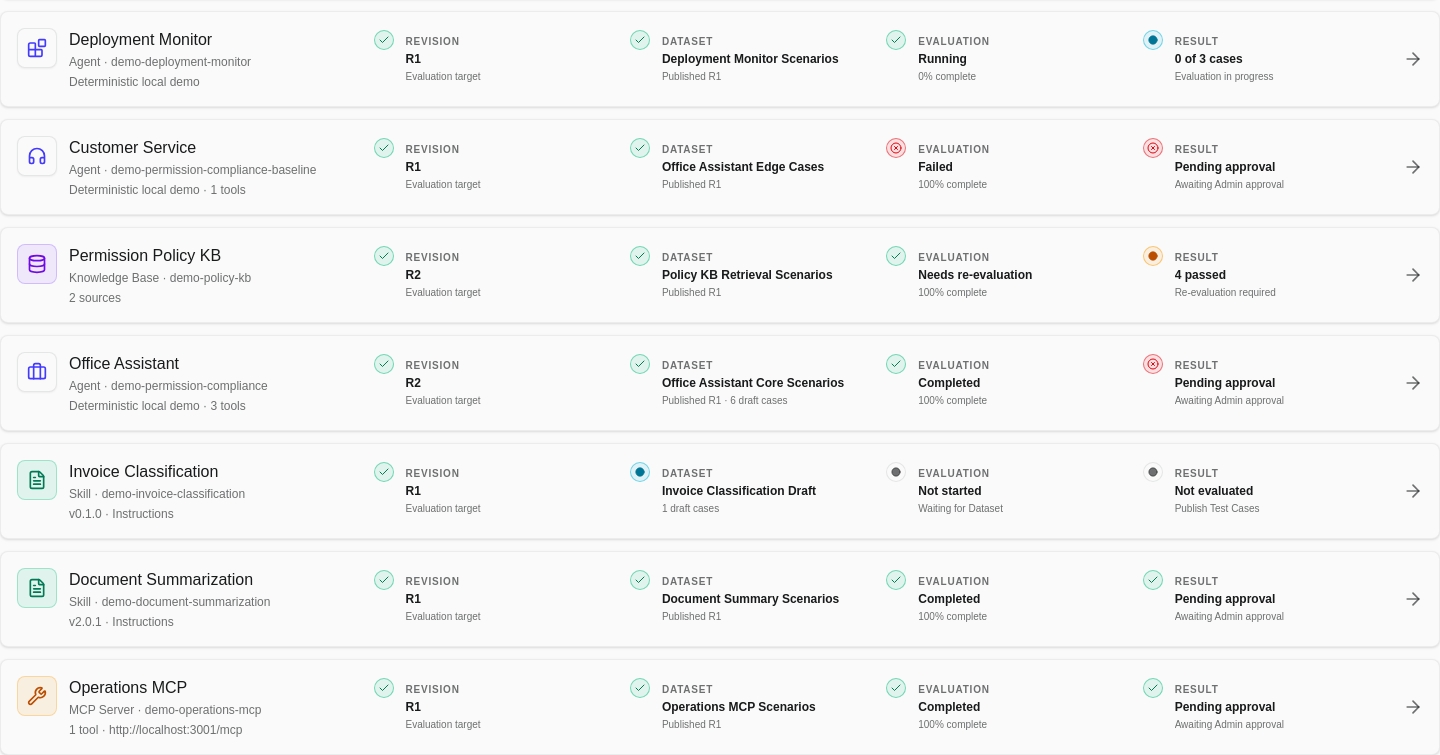
Test: Catalog drawer progressive disclosure › keeps revision metadata behind Skill details
(page scrolled)
Click the button named "Document Summarization demo-document-summarization" at (720,599), box [0,551,1439,647]
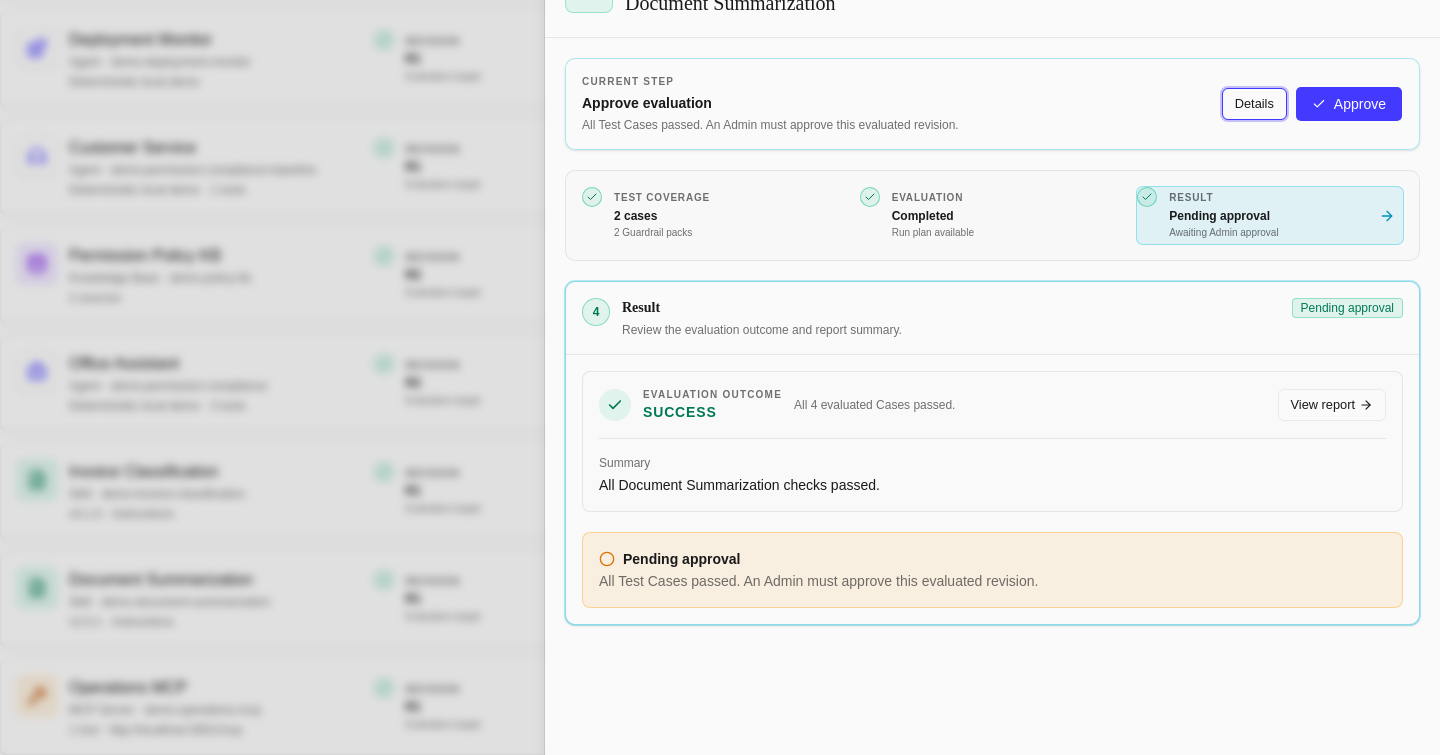
expect the text "Configuration" is not shown: met
expect the text "Target ID" is not shown: met
Click the button "Details" at (1254,104), box [1222,88,1287,120]
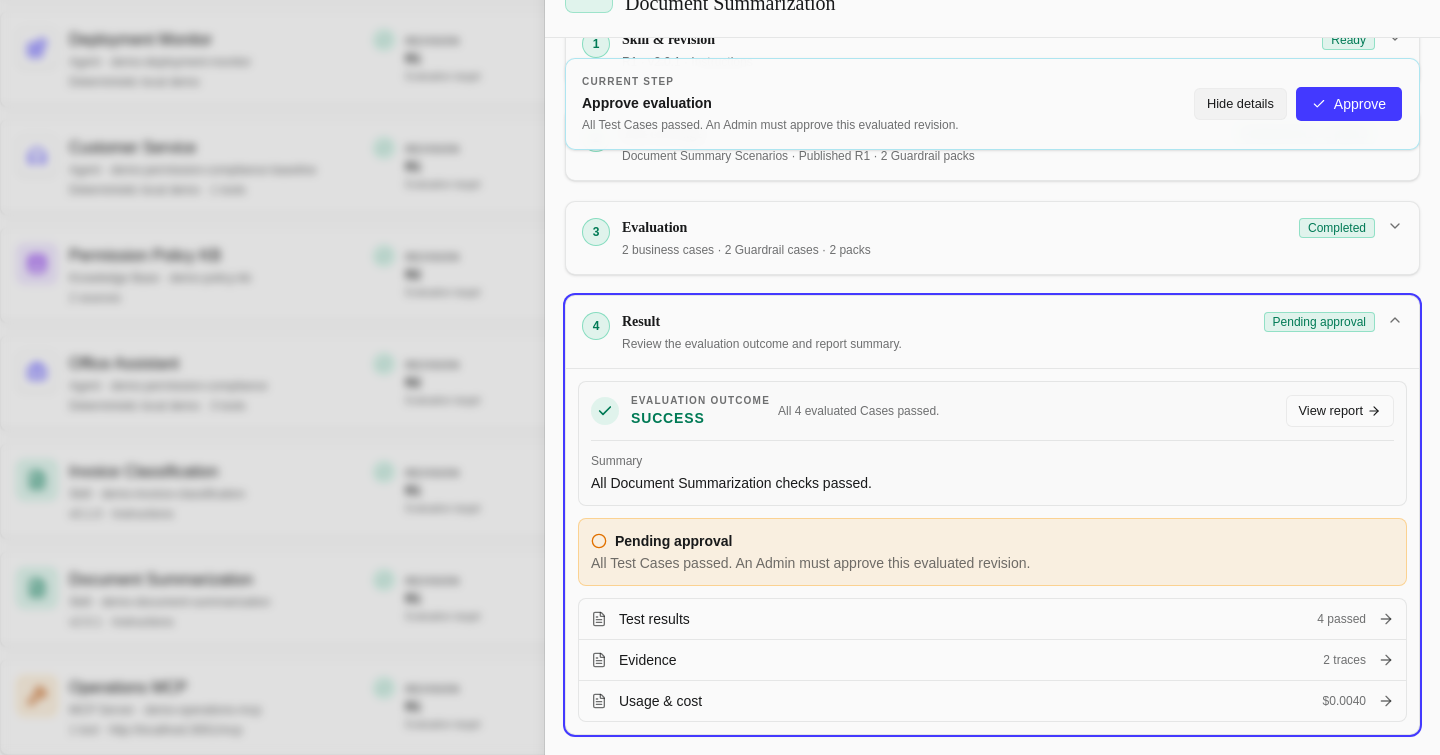
expect the text "Configuration" is not shown: met
Click the button named "Expand Skill & revision" at (669,39), box [566,14,1419,86]
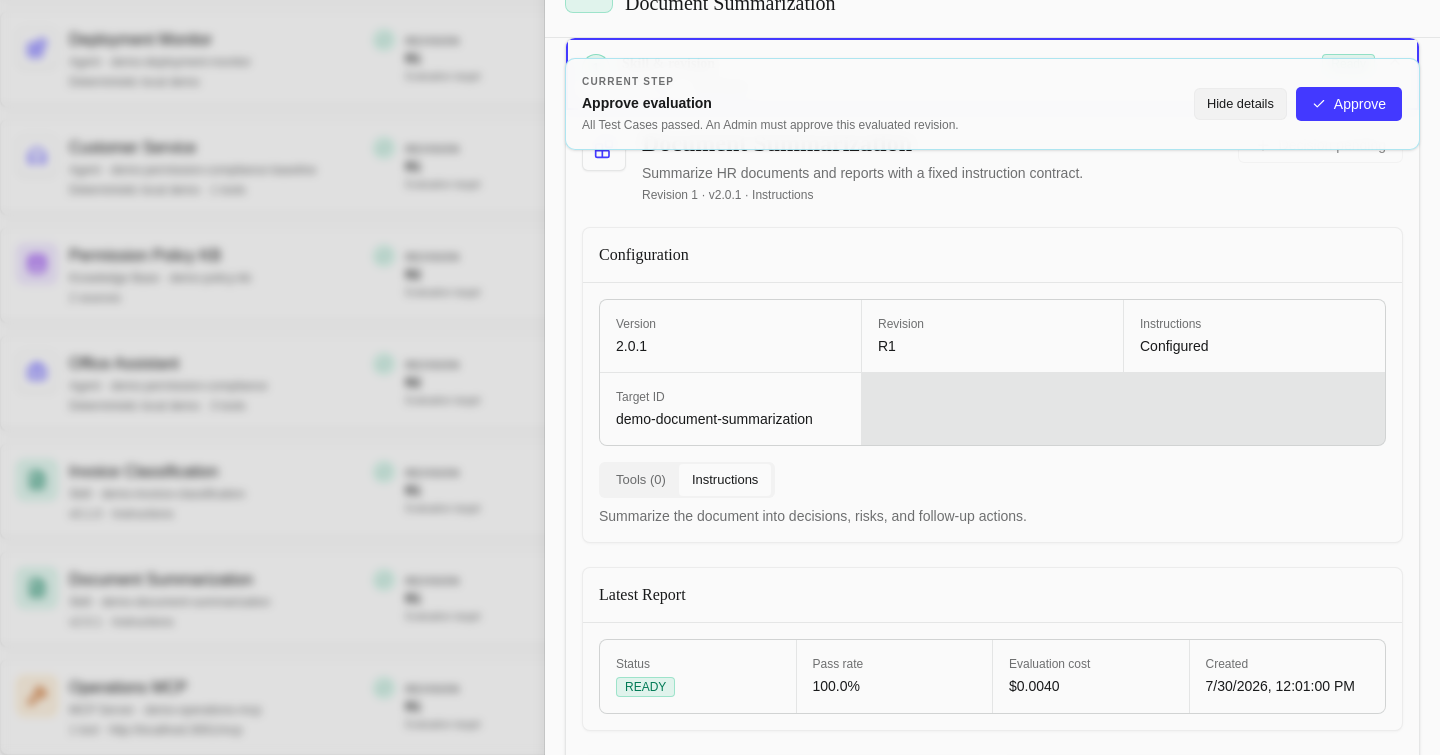
expect the text "Revision" is shown: met, box [878,317,924,331]
expect the text "Configuration" is shown: met, box [599,244,689,266]
expect the text "Target ID" is shown: met, box [616,390,665,404]
